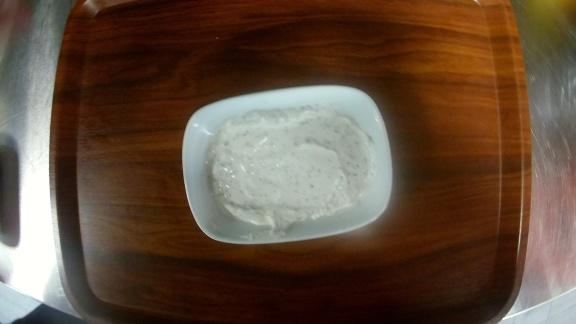haydari: (182, 84, 393, 245)
